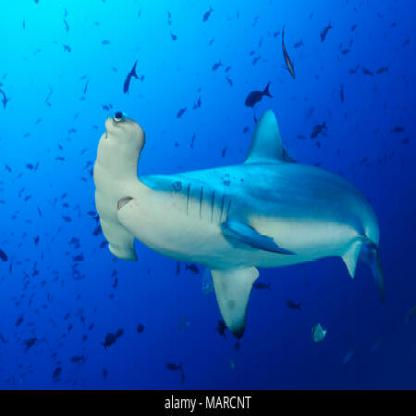hammerhead_Shark: (83, 74, 395, 341)
